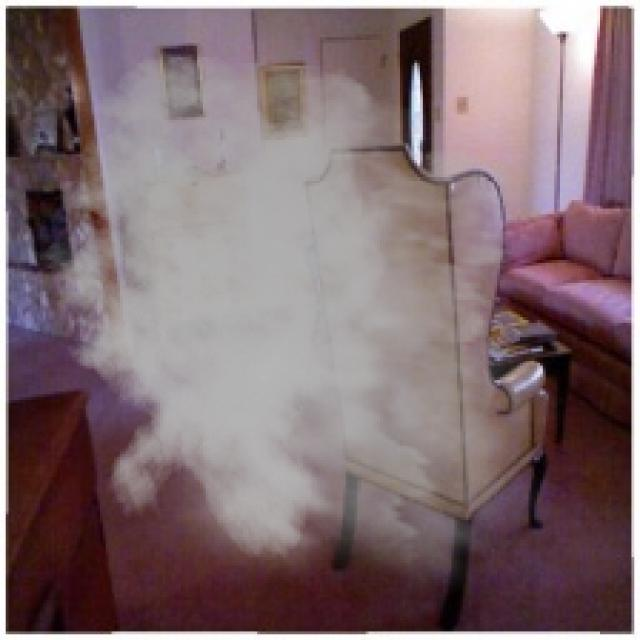smoke: (20, 51, 574, 608)
